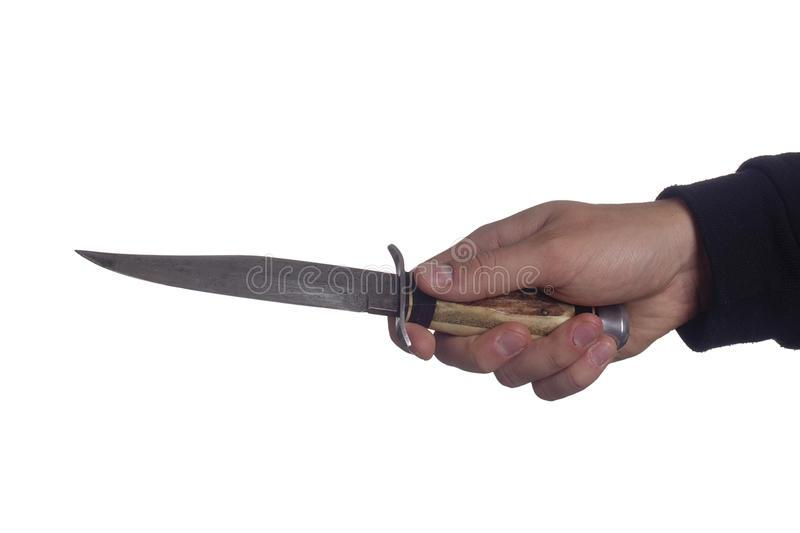weapon: (71, 240, 637, 357)
